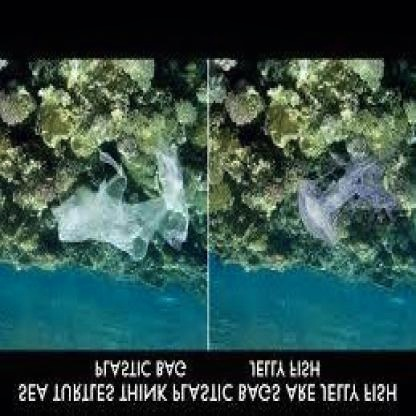pbag: (52, 142, 191, 262)
